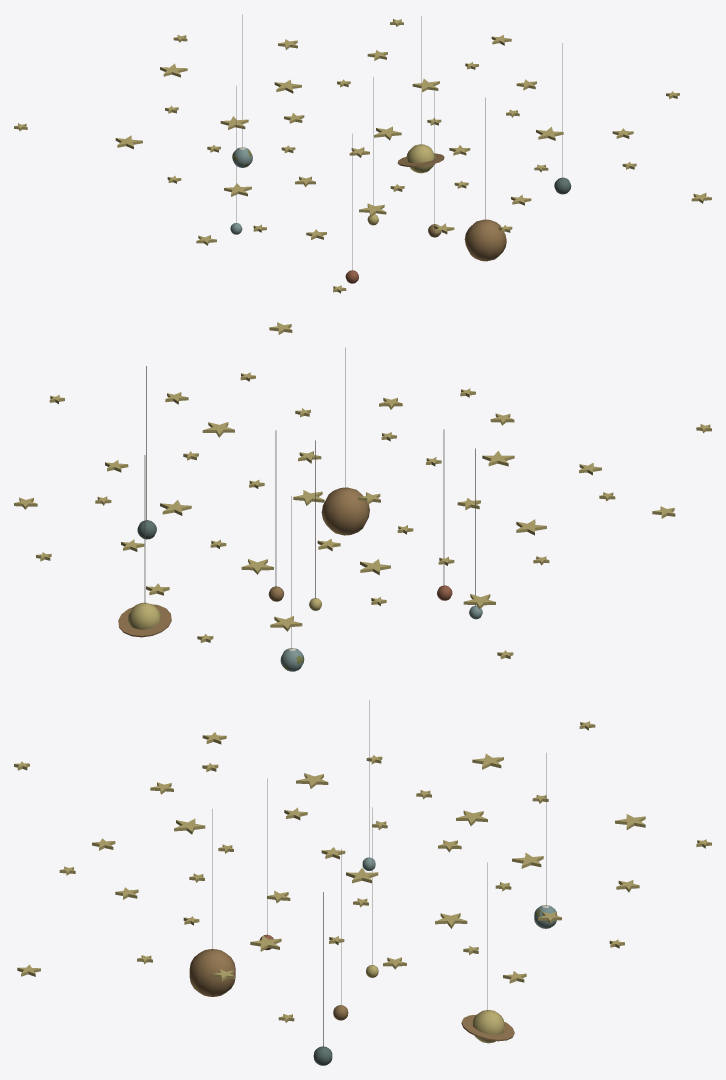
The model's file is StarCeiling.fbx.
3 renders of one model, top to bottom at view 1: azimuth 30°, elevation 25°; view 2: azimuth 150°, elevation 25°; view 3: azimuth 270°, elevation 25°, orthographic. The views are drawn at different scales.
Parts seen in each view (by area): view 1: Star_Ceiling; view 2: Star_Ceiling; view 3: Star_Ceiling.
Part boxes in pixels (<box>): Star_Ceiling: <box>14,14,711,293</box>; Star_Ceiling: <box>14,322,711,671</box>; Star_Ceiling: <box>14,700,711,1065</box>.
Size of the model in its own units: 461 by 155 by 454.
